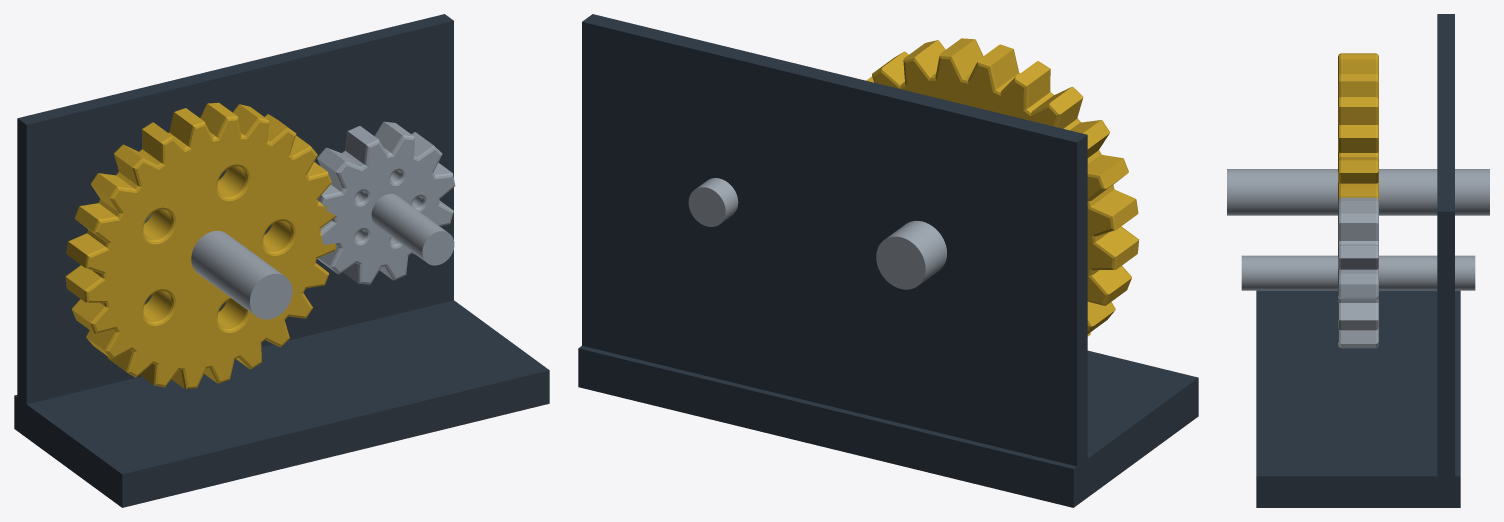
The model's file is gearbox_v2.glb.
3 views of the same model, side by side, from view 1: azimuth 30°, elevation 25°; view 2: azimuth 150°, elevation 25°; view 3: azimuth 270°, elevation 25° (orthographic). The views are drawn at different scales.
Parts seen in each view (by area): view 1: side_plate, base_plate, gear_large, gear_small, shaft_main, shaft_pinion; view 2: side_plate, base_plate, gear_large, shaft_main, shaft_pinion; view 3: base_plate, shaft_main, side_plate, shaft_pinion, gear_small, gear_large.
Part boxes in pixels (box(x1,y1,x2,y2)): side_plate: box(17, 14, 453, 404); base_plate: box(14, 300, 549, 507); gear_large: box(65, 102, 336, 388); gear_small: box(317, 121, 455, 284); shaft_main: box(145, 213, 292, 319); shaft_pinion: box(371, 194, 454, 265); side_plate: box(582, 14, 1087, 466); base_plate: box(578, 346, 1198, 507); gear_large: box(866, 38, 1139, 336); shaft_main: box(876, 221, 946, 289); shaft_pinion: box(688, 178, 738, 226); base_plate: box(1256, 290, 1460, 507); shaft_main: box(1227, 169, 1489, 215); side_plate: box(1437, 14, 1454, 476); shaft_pinion: box(1241, 255, 1475, 290); gear_small: box(1338, 197, 1378, 348); gear_large: box(1338, 53, 1378, 200).
Bounding box in the file's own units: 0.16 × 0.1155 × 0.09.
